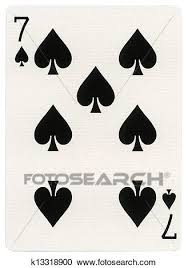seven of spades: (7, 7, 180, 250)
